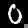number: (3, 2, 23, 25)
